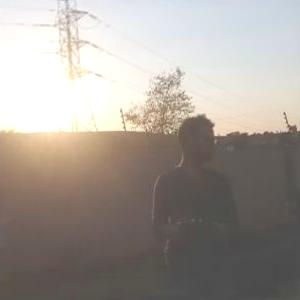follow: (150, 111, 245, 299)
